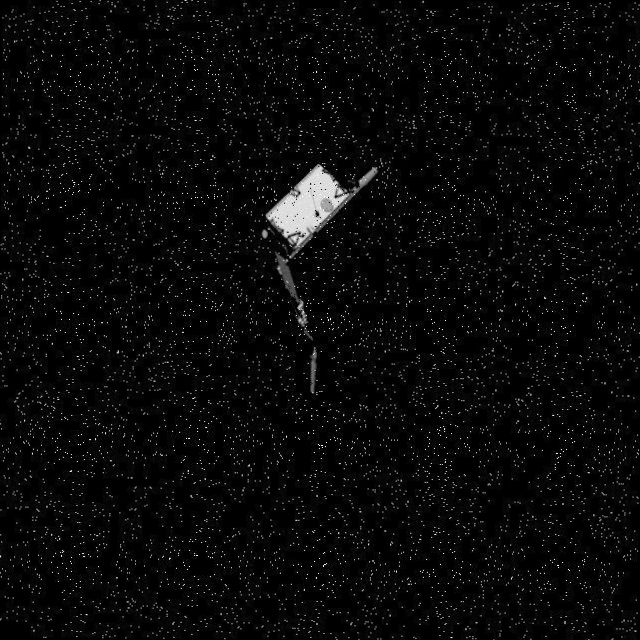medium_debris: (267, 144, 405, 407)
